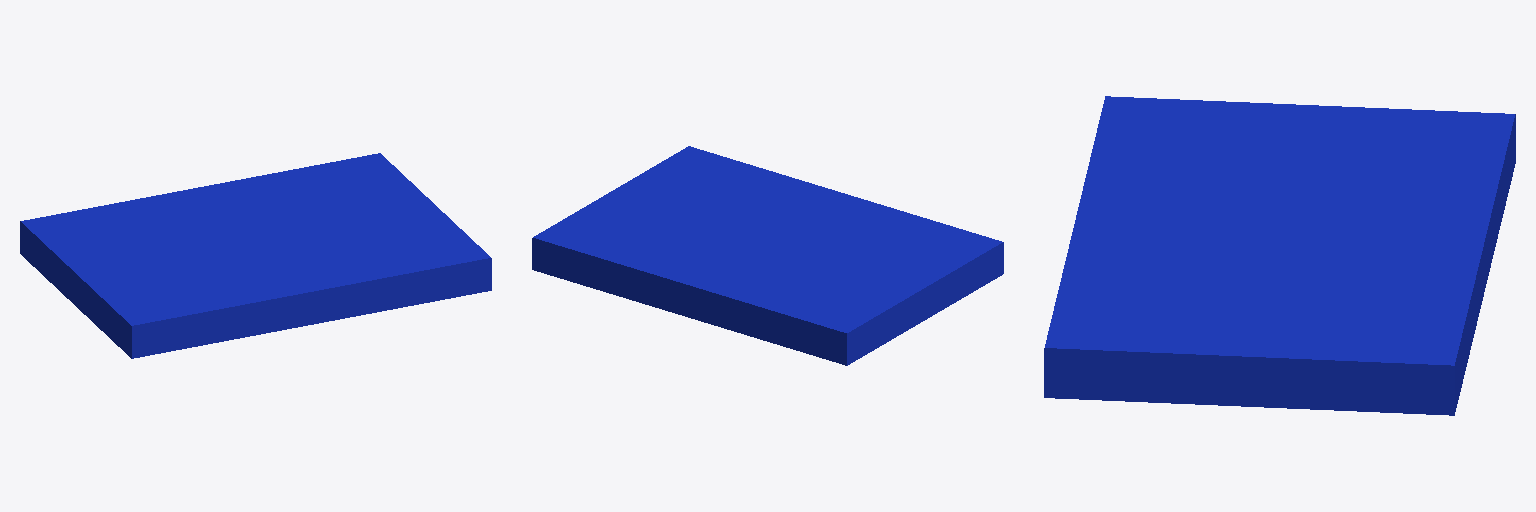
robot.urdf — Interference:
<?xml version="1.0"?>
<robot name="Interference">
  <link name="baseLink">
    <inertial>
      <origin xyz="0.0 0.0 0.0" rpy="0.0 0.0 0.0"/>
      <inertia ixx="0.0" ixy="0.0" ixz="0.0" iyy="0.0" iyz="0.0" izz="0.0"/>
      <mass value="0"/>
    </inertial>
    <visual>
      <origin xyz="0.0 0.0 0.0" rpy="0.0 0.0 -0.10174477923280723"/>
      <geometry>
        <box size="0.10836358855061697 0.07464616041684785 0.01"/>
      </geometry>
      <material name="color">
        <color rgba="0.14865202016116752 0.2725736457165773 0.8073323662984542 1.0"/>
      </material>
    </visual>
  </link>
</robot>

--- What the picture shows (computed from the rendered views, not written in the file) ---
The picture shows the robot from 3 angles, left to right: view 1: azimuth 30°, elevation 25°; view 2: azimuth 150°, elevation 25°; view 3: azimuth 270°, elevation 25°; orthographic projection.
Model Interference with 1 links and 0 joints (none), rooted at baseLink, posed every joint at zero.
Visible links, largest first — view 1: baseLink; view 2: baseLink; view 3: baseLink.
Link boxes in pixels (x1,y1,x2,y2): baseLink: (20, 153, 491, 358); baseLink: (532, 146, 1003, 365); baseLink: (1044, 96, 1515, 415).
Bounding box of the posed robot: 0.1154 × 0.0853 × 0.01 m (x, y, z).
Geometry: primitives only (box / cylinder / sphere), no mesh files.